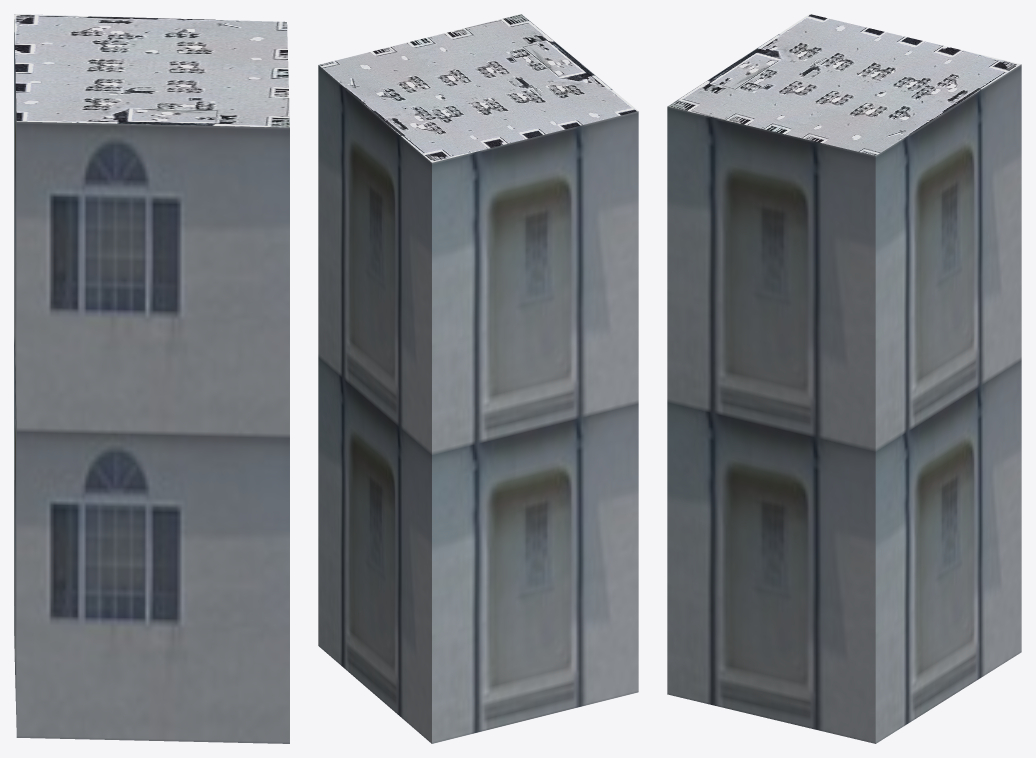
File: ResTex__608.fbx
The picture shows the model from 3 angles, left to right: view 1: azimuth 30°, elevation 25°; view 2: azimuth 150°, elevation 25°; view 3: azimuth 270°, elevation 25°; orthographic projection. The views are drawn at different scales.
Parts seen in each view (by area): view 1: CityEngineMaterial_17_m, CityEngineMaterial_4_m; view 2: CityEngineMaterial_17_m, CityEngineMaterial_4_m; view 3: CityEngineMaterial_17_m, CityEngineMaterial_4_m.
Part boxes in pixels (<box>): CityEngineMaterial_17_m: <box>14,19,289,743</box>; CityEngineMaterial_4_m: <box>14,14,289,127</box>; CityEngineMaterial_17_m: <box>318,65,638,743</box>; CityEngineMaterial_4_m: <box>319,14,638,162</box>; CityEngineMaterial_17_m: <box>667,64,1021,743</box>; CityEngineMaterial_4_m: <box>668,14,1020,155</box>.
Size of the model in its own units: 3.11 by 6 by 3.27.
Materials: 2 (2 with a texture image).
